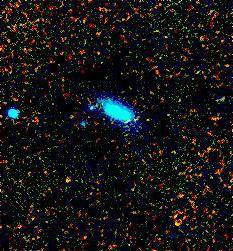star: (59, 164, 89, 194)
